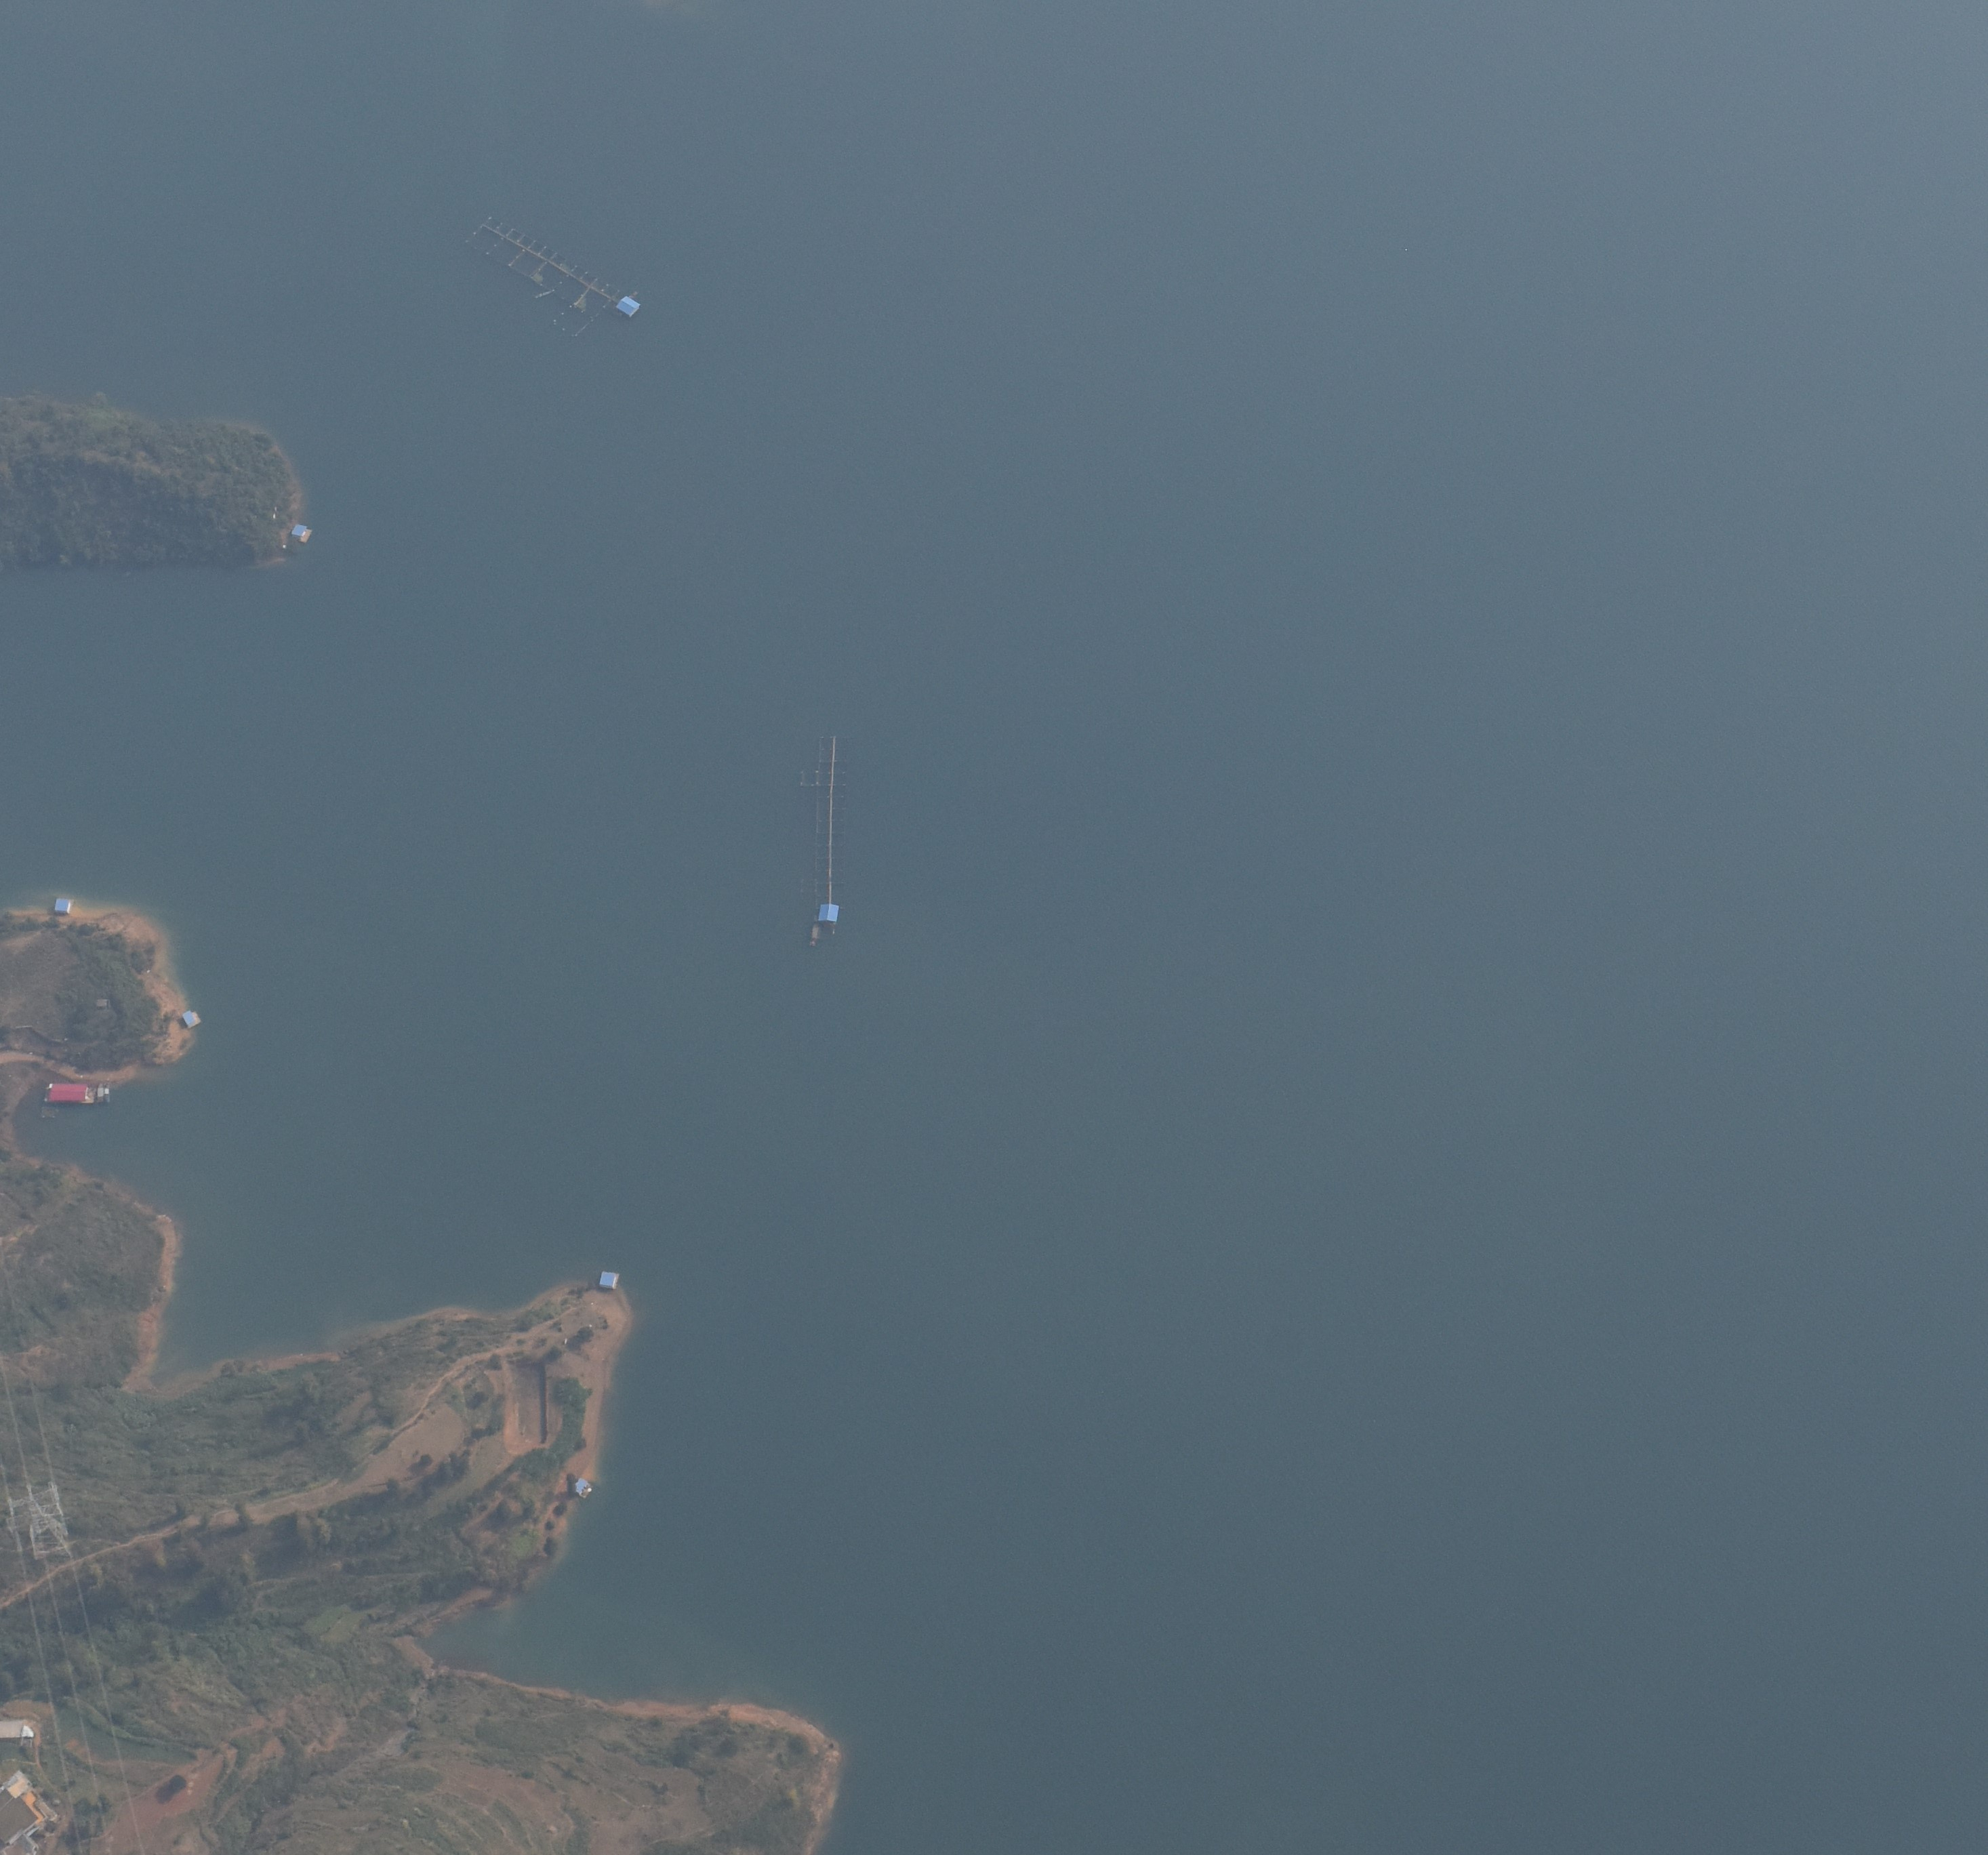building: (1, 1778, 70, 1835)
cable-tower: (5, 1482, 74, 1556)
cultivation-mesh-cage: (464, 216, 639, 338), (799, 735, 853, 947)
prefabricated-house: (616, 295, 640, 318), (292, 524, 313, 544), (819, 902, 839, 924), (599, 1271, 620, 1288), (182, 1010, 201, 1027), (575, 1477, 589, 1496), (55, 898, 70, 914)
ship: (47, 1083, 110, 1105)
